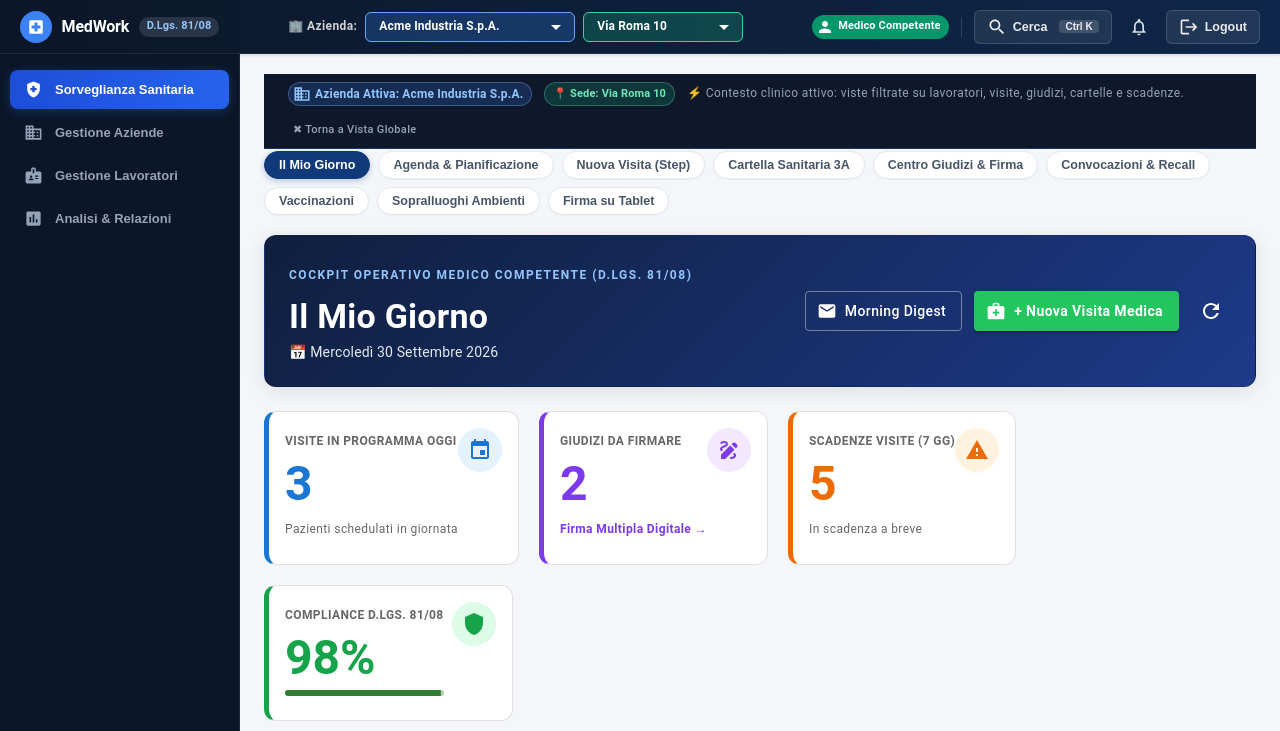
Test: App shell and navigation › renders Quick Actions card in WorkersCenter and clicking Nuova Visita Medica opens stepper
This screenshot has width=1280, height=731.
Click the button "Gestione Lavoratori": (120, 176) top-left (10, 156), bottom-right (229, 195)
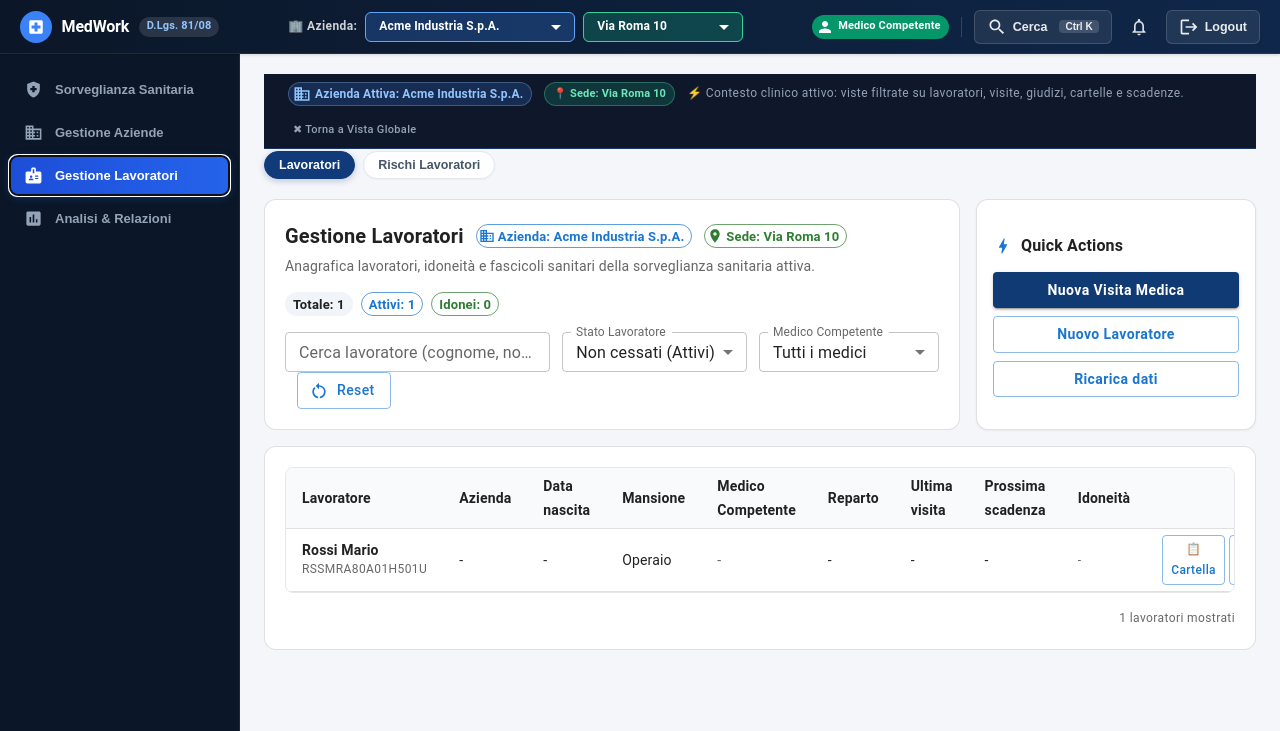
Result: the text "Rossi Mario" is shown at top-left (302, 542), bottom-right (379, 558)
Result: the heading "Quick Actions" is shown at top-left (1021, 232), bottom-right (1123, 260)
Result: the button "Ricarica dati" is shown at top-left (993, 361), bottom-right (1239, 397)
// Click Nuova Visita Medica in Quick Actions
Click the button "Nuova Visita Medica": (1116, 290) top-left (993, 272), bottom-right (1239, 308)
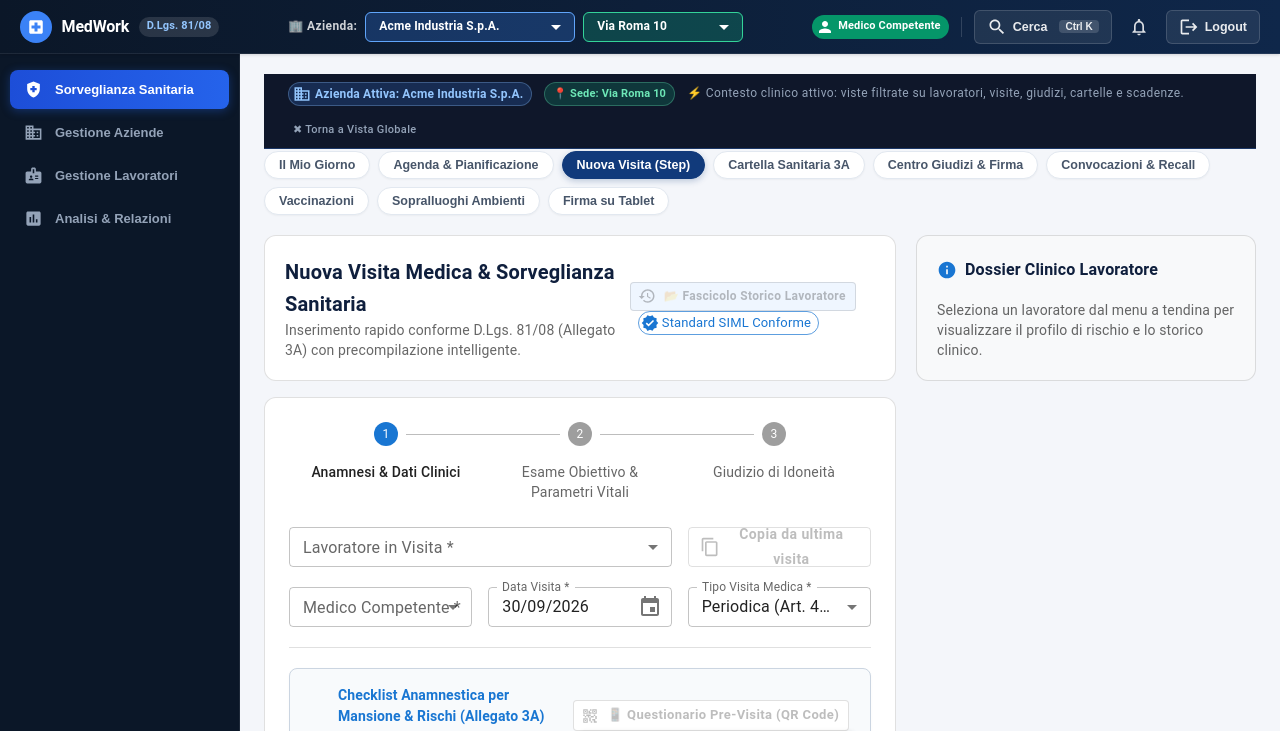
Result: the heading "Nuova Visita Medica & Sorveglianza Sanitaria" is shown at top-left (285, 256), bottom-right (622, 320)
Result: the heading "Checklist Anamnestica per Mansione & Rischi (Allegato 3A)" is shown at top-left (338, 684), bottom-right (561, 728)
